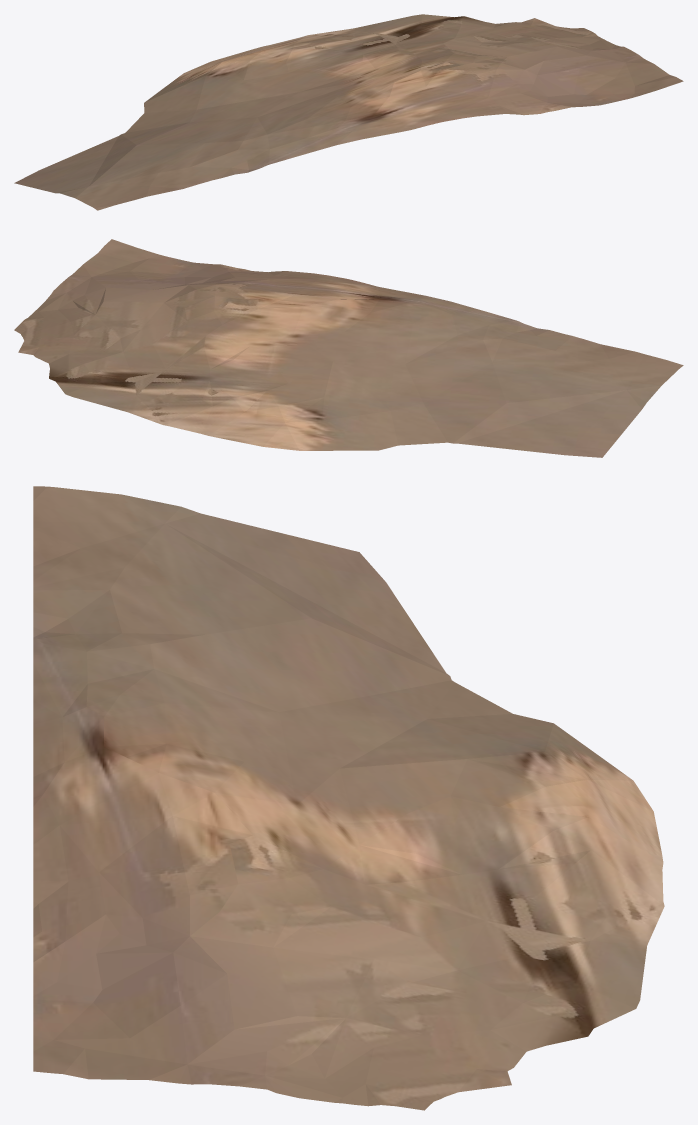
3 views of the same model, one above another, from view 1: azimuth 30°, elevation 25°; view 2: azimuth 150°, elevation 25°; view 3: azimuth 270°, elevation 25° (orthographic). The views are drawn at different scales.
Size of the model in its own units: 1.04 by 0.0773 by 0.499.
Materials: 1 (1 with a texture image).
